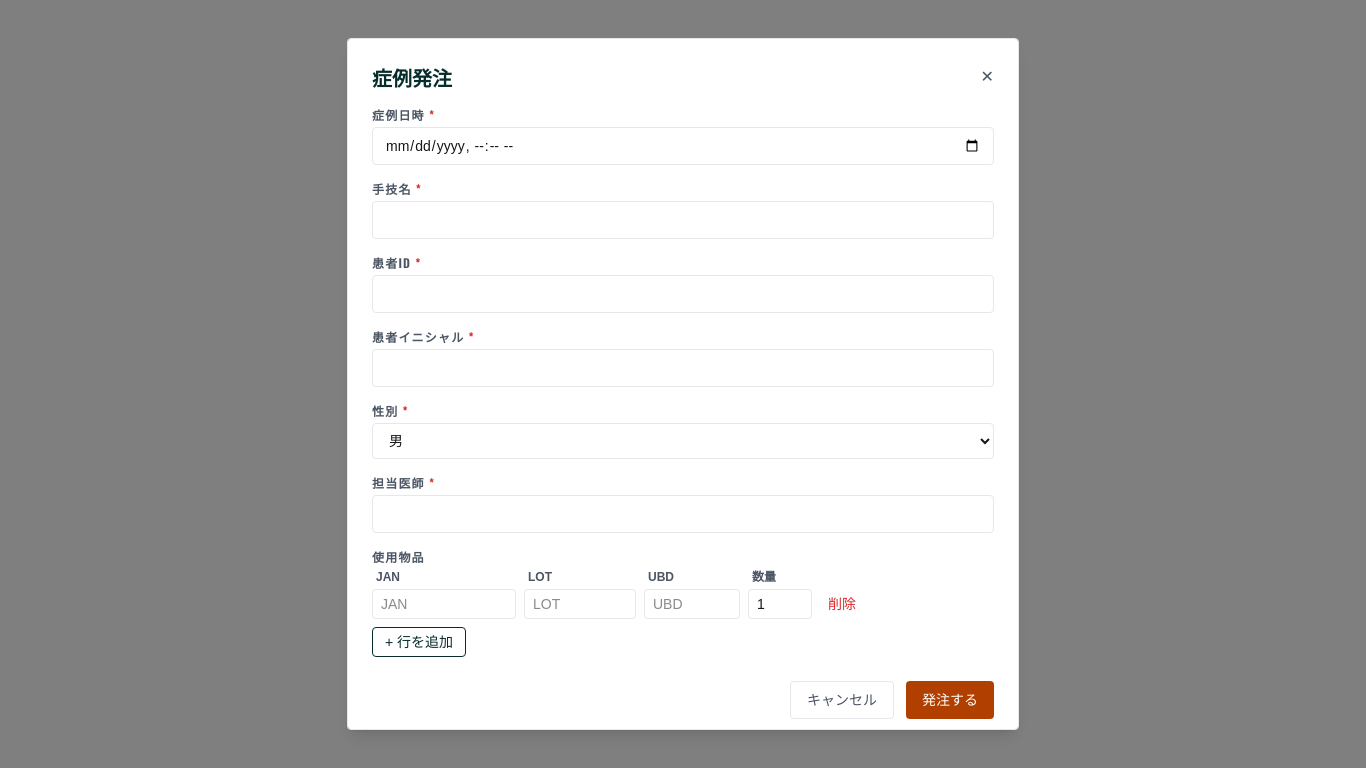
CaseOrderModal 空送信防止 › 全フィールド空のまま送信するとfetchが呼ばれずエラーが表示される
Click the button "発注する" at (950, 700), box [906,681,994,719]
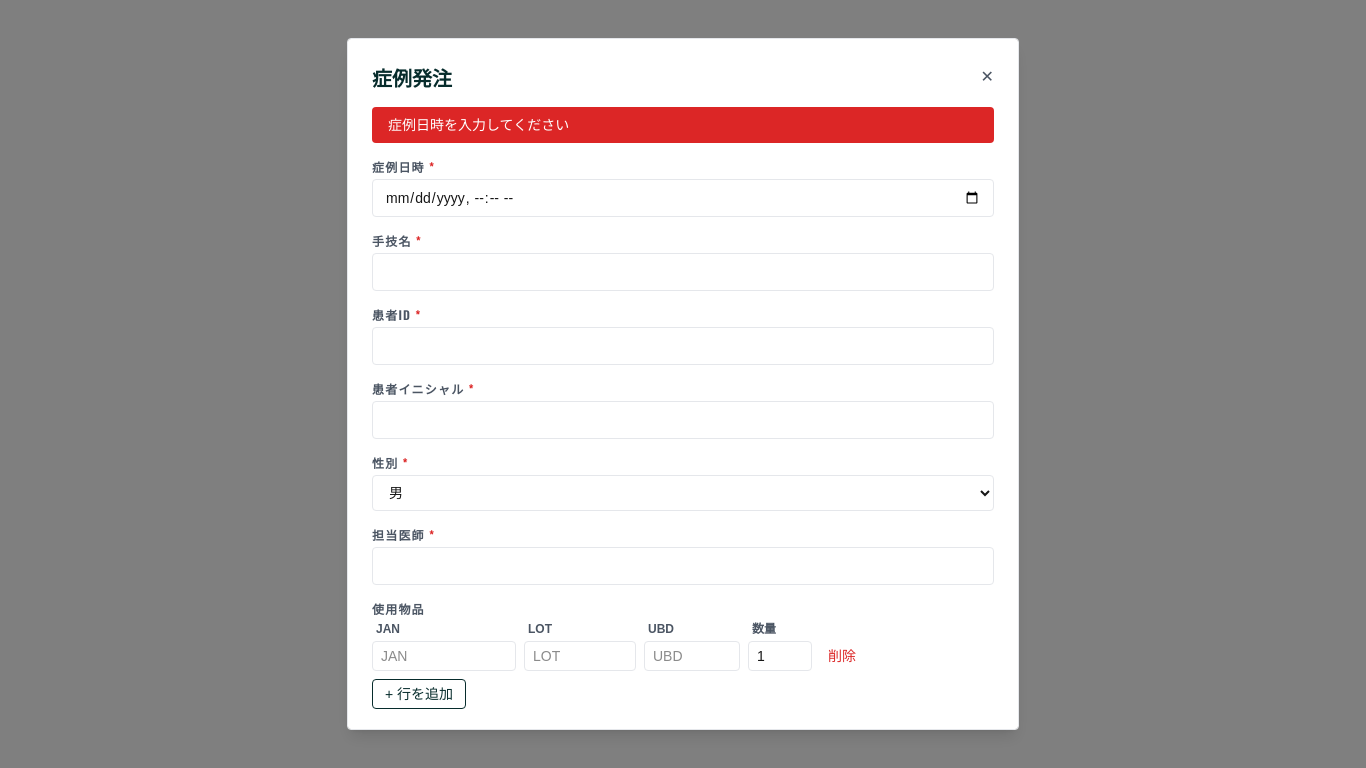
Check: the text "症例日時を入力してください" is shown, box [372,107,994,143]
